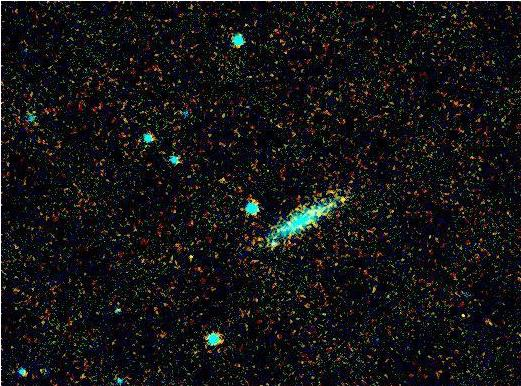star: (177, 244, 207, 274)
